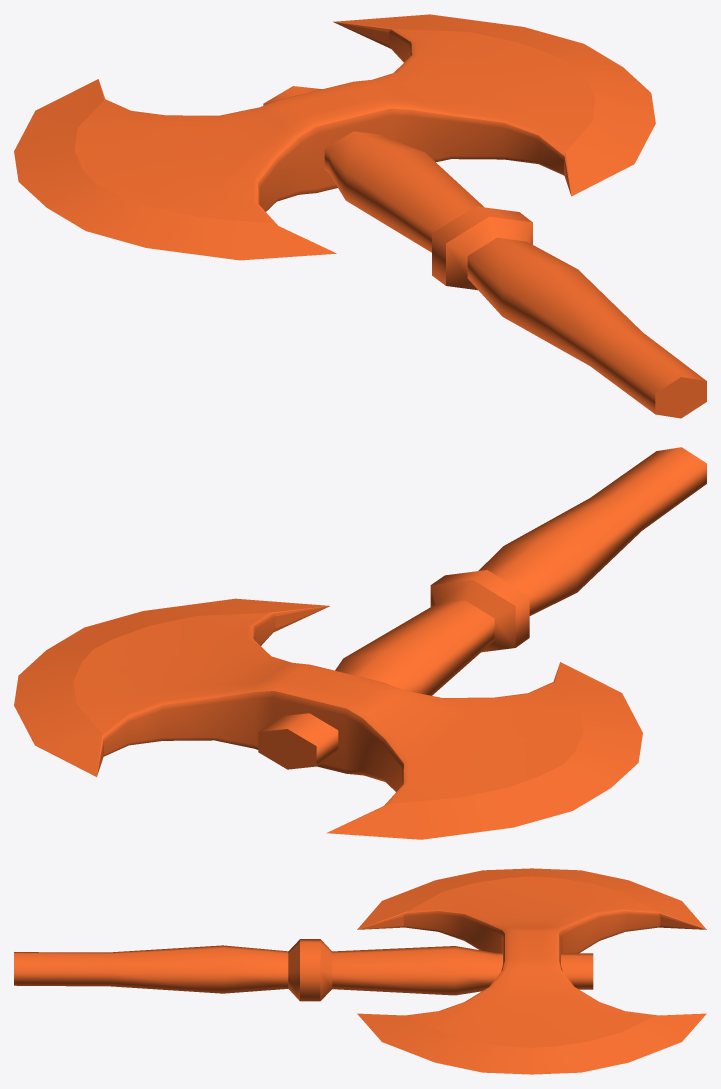
The model's file is Axe_5.fbx.
The picture shows the model from 3 angles, top to bottom: view 1: azimuth 30°, elevation 25°; view 2: azimuth 150°, elevation 25°; view 3: azimuth 270°, elevation 25°; orthographic projection. The views are drawn at different scales.
Parts seen in each view (by area): view 1: Axe_5; view 2: Axe_5; view 3: Axe_5.
Boxes of the visible parts, x1,y1,x2,y2 form: Axe_5: (14,14,706,418); Axe_5: (14,447,706,839); Axe_5: (14,868,706,1074).
Bounding box in the file's own units: 8.42 × 1.05 × 11.96.
